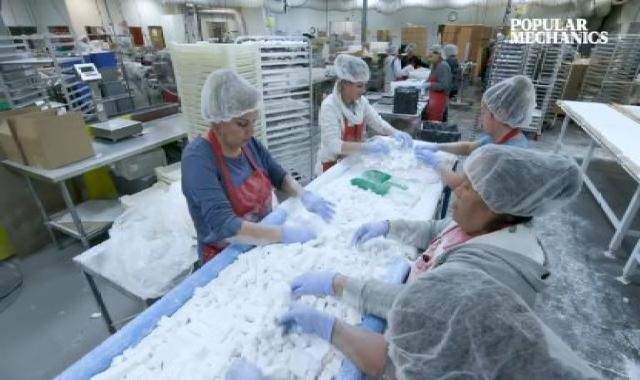Apron: (202, 126, 281, 254), (471, 201, 518, 293), (321, 93, 366, 176), (428, 61, 448, 124)
Glove: (273, 298, 339, 346), (287, 262, 344, 303), (353, 213, 389, 258), (298, 183, 336, 219), (223, 354, 269, 380), (277, 221, 318, 244), (363, 140, 394, 158), (391, 126, 414, 147), (415, 151, 439, 170), (414, 140, 437, 154)
Hairnet: (466, 140, 585, 220), (197, 69, 266, 124), (482, 76, 535, 126), (335, 46, 370, 84), (444, 43, 466, 57), (385, 38, 399, 57), (404, 38, 419, 55), (429, 41, 446, 53)
